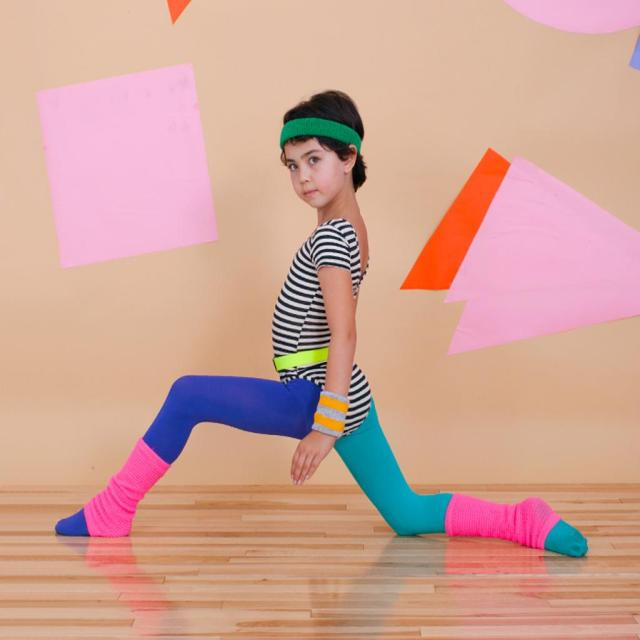Face: (286, 129, 355, 213)
